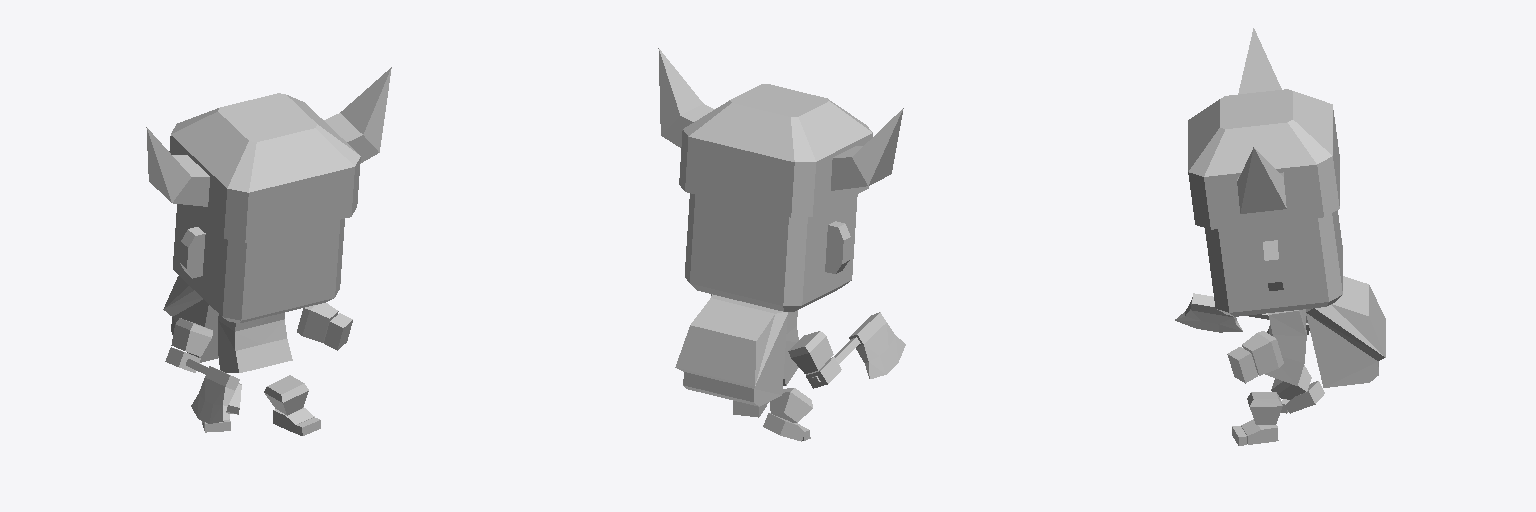
Rendered from mini_knight_000024.obj.
3 renders of one model, left to right at view 1: azimuth 30°, elevation 25°; view 2: azimuth 150°, elevation 25°; view 3: azimuth 270°, elevation 25°, orthographic.
Visible parts, largest first — view 1: cap_Object01_Material__3, Mesh_objheadusOBJexport_Material, back_Object03_Material__3, axe_Object02_Material__3; view 2: cap_Object01_Material__3, Mesh_objheadusOBJexport_Material, back_Object03_Material__3, axe_Object02_Material__3; view 3: cap_Object01_Material__3, Mesh_objheadusOBJexport_Material, back_Object03_Material__3, axe_Object02_Material__3.
Boxes of the visible parts, x1=… form: cap_Object01_Material__3: x1=146, y1=67, x2=391, y2=242; Mesh_objheadusOBJexport_Material: x1=165, y1=204, x2=352, y2=435; back_Object03_Material__3: x1=163, y1=276, x2=218, y2=362; axe_Object02_Material__3: x1=186, y1=359, x2=239, y2=423; cap_Object01_Material__3: x1=658, y1=48, x2=903, y2=217; Mesh_objheadusOBJexport_Material: x1=685, y1=193, x2=857, y2=441; back_Object03_Material__3: x1=675, y1=294, x2=787, y2=406; axe_Object02_Material__3: x1=811, y1=312, x2=905, y2=383; cap_Object01_Material__3: x1=1188, y1=28, x2=1339, y2=229; Mesh_objheadusOBJexport_Material: x1=1205, y1=210, x2=1342, y2=445; back_Object03_Material__3: x1=1306, y1=276, x2=1385, y2=387; axe_Object02_Material__3: x1=1175, y1=293, x2=1268, y2=332.
Size of the model in its own units: 1.94 by 2.55 by 1.45.